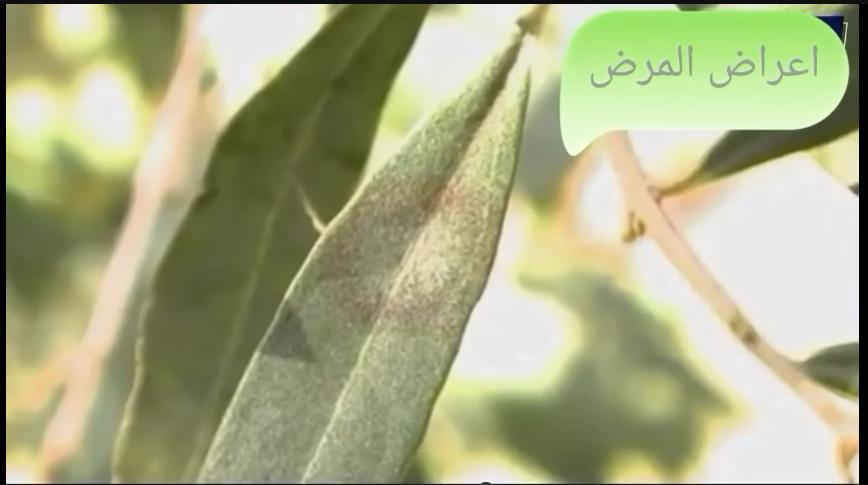OlivePeacockSpot: (205, 24, 539, 485)
